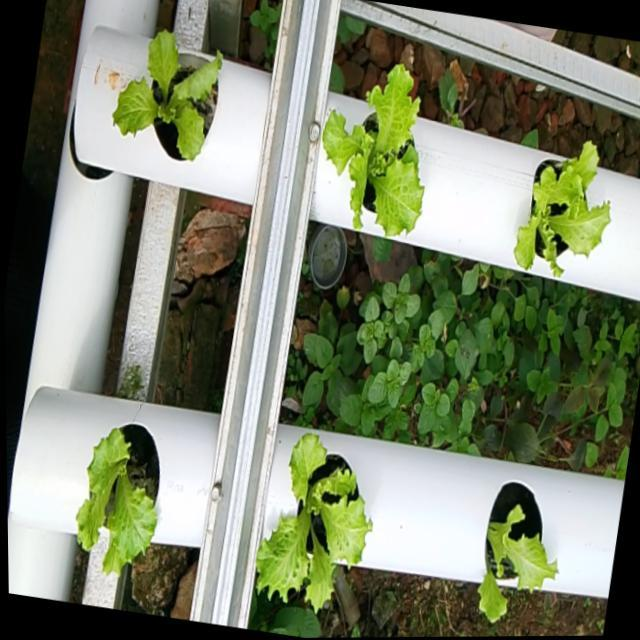Baby: (253, 434, 370, 615), (320, 66, 422, 238), (110, 31, 220, 163), (511, 141, 607, 277), (74, 424, 158, 575), (476, 480, 555, 620)
